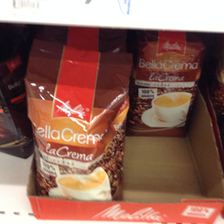coffee: (25, 43, 125, 200), (132, 30, 204, 139)
